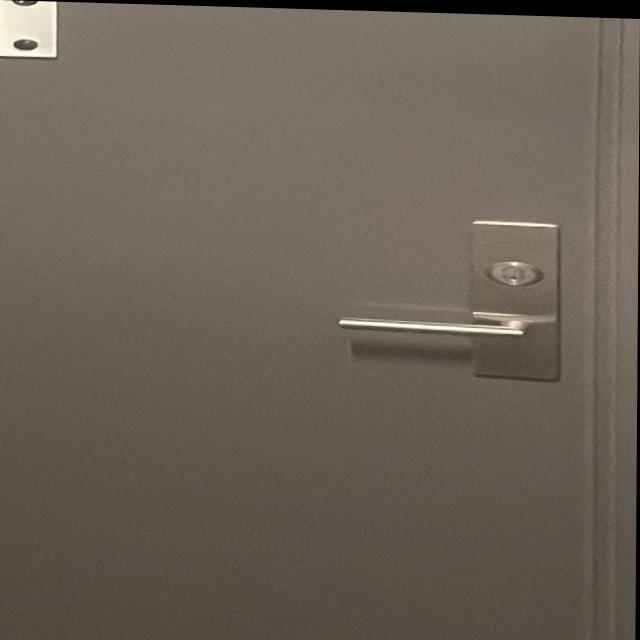door_handle: (325, 288, 583, 355)
